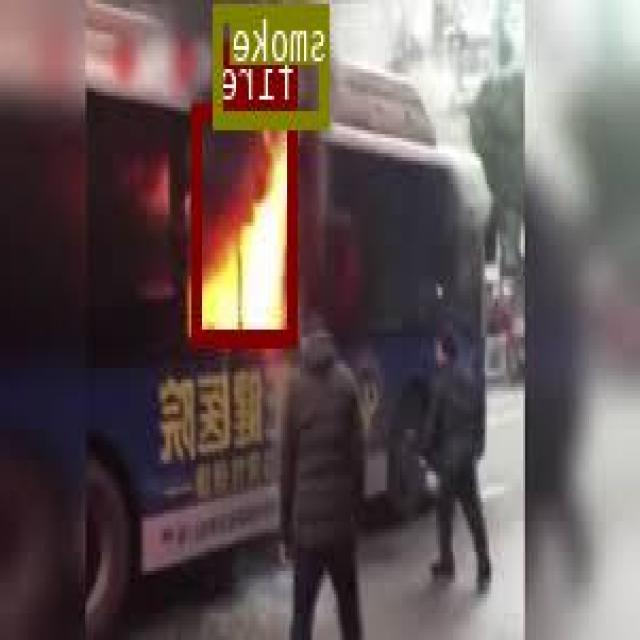fire: (195, 102, 298, 343)
smoke: (216, 1, 331, 125)
